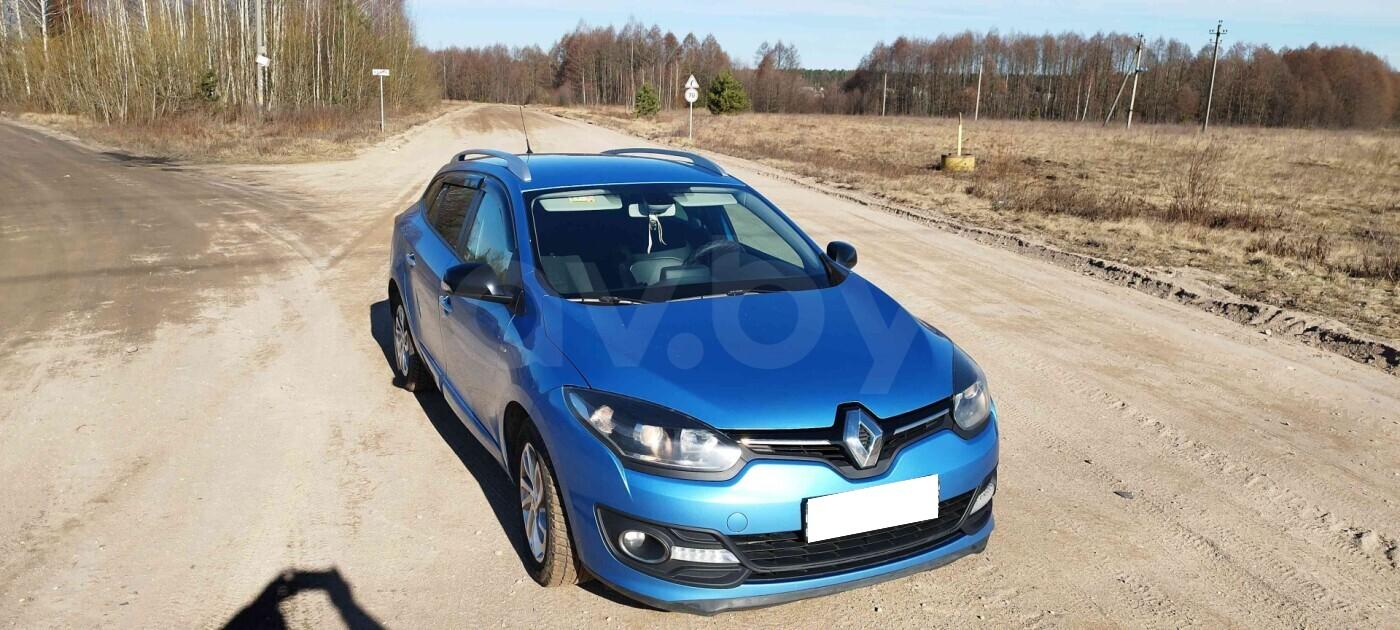Megane_2014-2016: (383, 144, 1008, 587)
